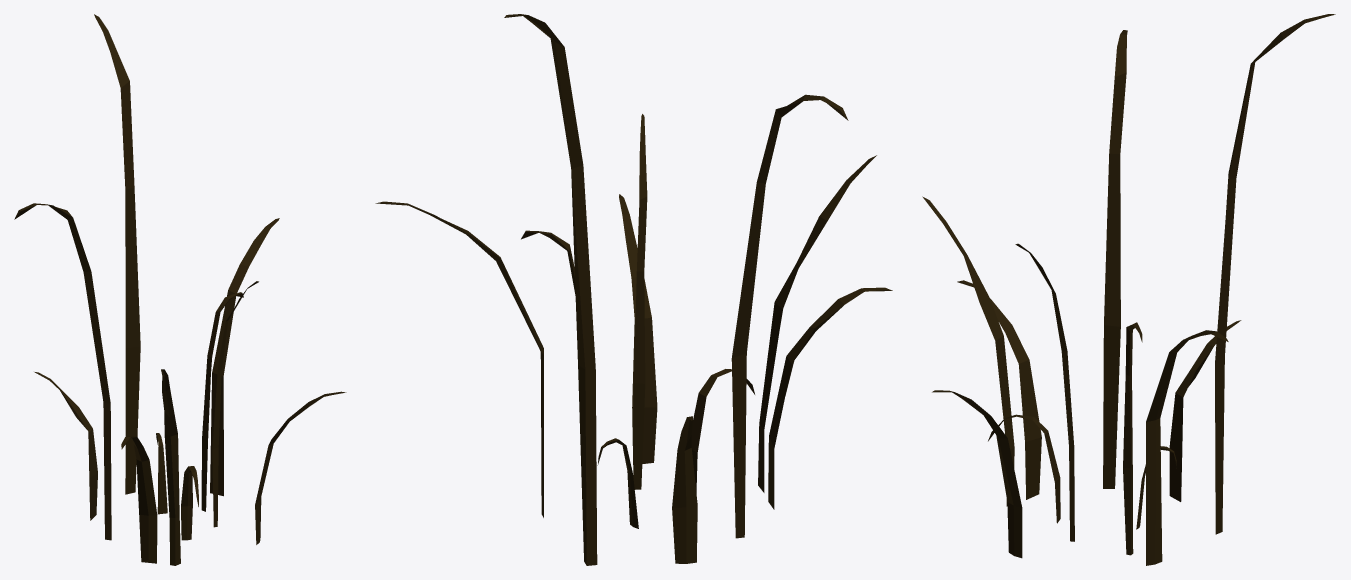
Rendered from Weed03.fbx.
The picture shows the model from 3 angles, left to right: view 1: azimuth 30°, elevation 25°; view 2: azimuth 150°, elevation 25°; view 3: azimuth 270°, elevation 25°; orthographic projection. The views are drawn at different scales.
Parts seen in each view (by area): view 1: Plane.001; view 2: Plane.001; view 3: Plane.001.
Boxes of the visible parts, x1,y1,x2,y2 form: Plane.001: [14, 14, 346, 565]; Plane.001: [375, 14, 892, 565]; Plane.001: [922, 14, 1335, 565].
Bounding box in the file's own units: 0.8452 × 1.15 × 0.8215.
